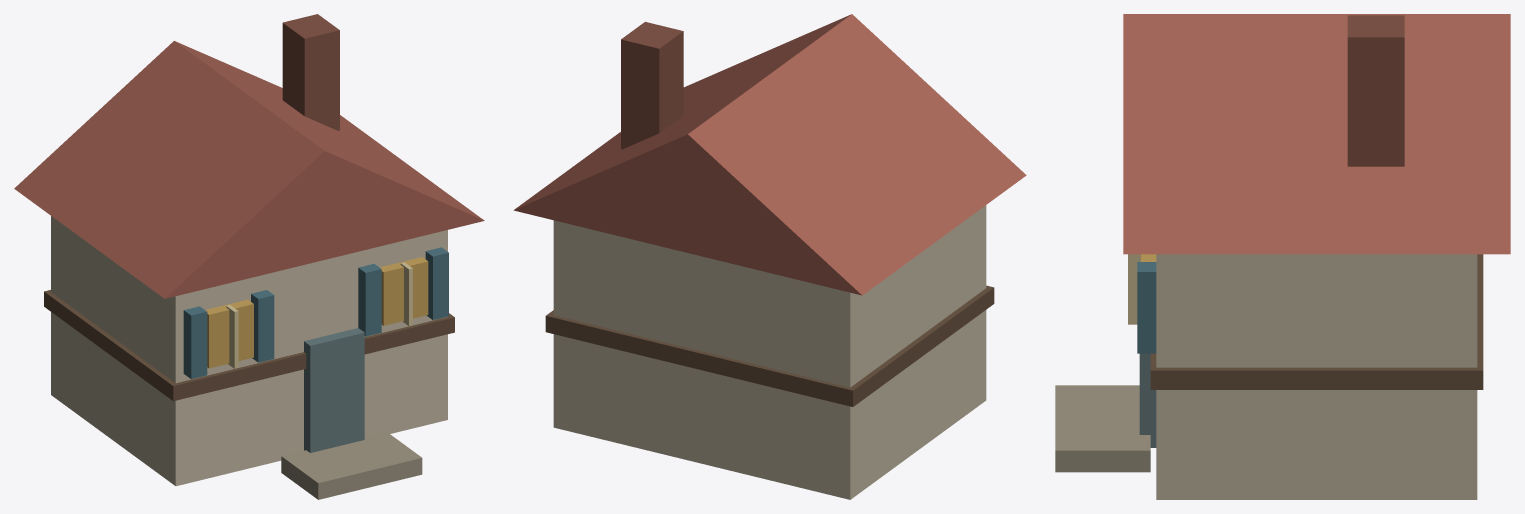
File: little-blue-cottage.glb
3 views of the same model, side by side, from view 1: azimuth 30°, elevation 25°; view 2: azimuth 150°, elevation 25°; view 3: azimuth 270°, elevation 25° (orthographic). The views are drawn at different scales.
Visible parts, largest first — view 1: cottage; view 2: cottage; view 3: cottage.
Part boxes in pixels (<box>): cottage: <box>14,14,484,499</box>; cottage: <box>513,14,1026,499</box>; cottage: <box>1055,14,1510,499</box>.
Bounding box in the file's own units: 2 × 2.11 × 1.92.
